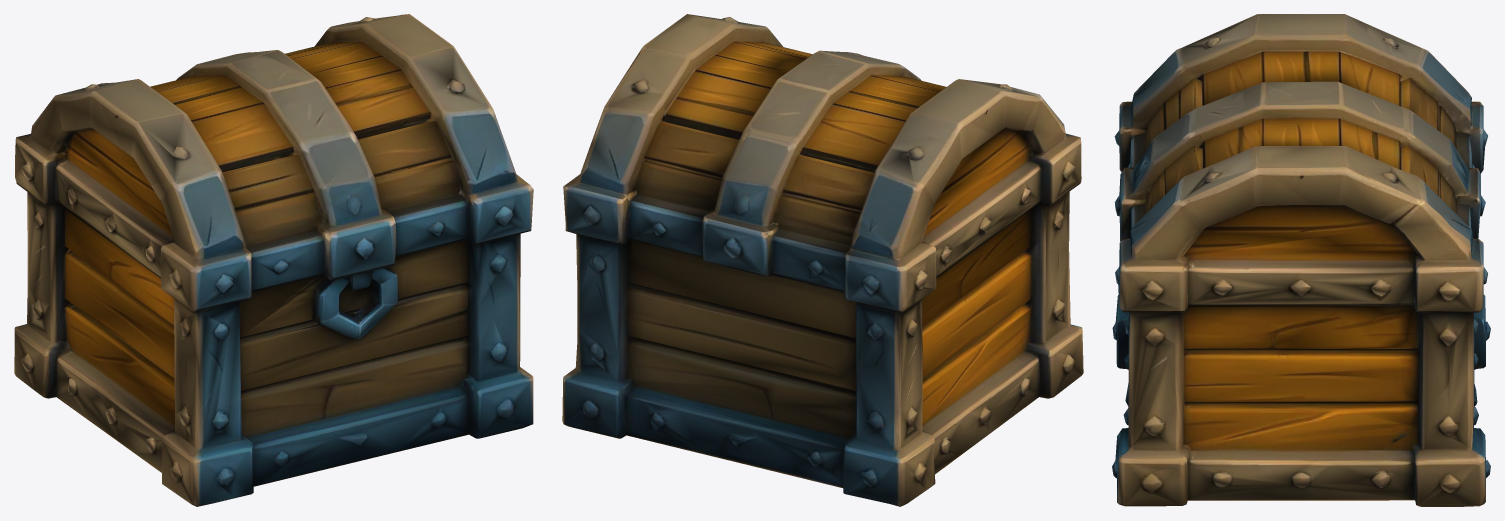
File: chest.opt.glb
3 views of the same model, side by side, from view 1: azimuth 30°, elevation 25°; view 2: azimuth 150°, elevation 25°; view 3: azimuth 270°, elevation 25° (orthographic).
Parts seen in each view (by area): view 1: node_0; view 2: node_0; view 3: node_0.
Part boxes in pixels (box(x1,y1,x2,y2)): node_0: box(14, 14, 533, 506); node_0: box(562, 14, 1083, 506); node_0: box(1112, 14, 1490, 506).
Size of the model in its own units: 0.7542 by 0.6869 by 0.7045.
1 material, 1 textured.
